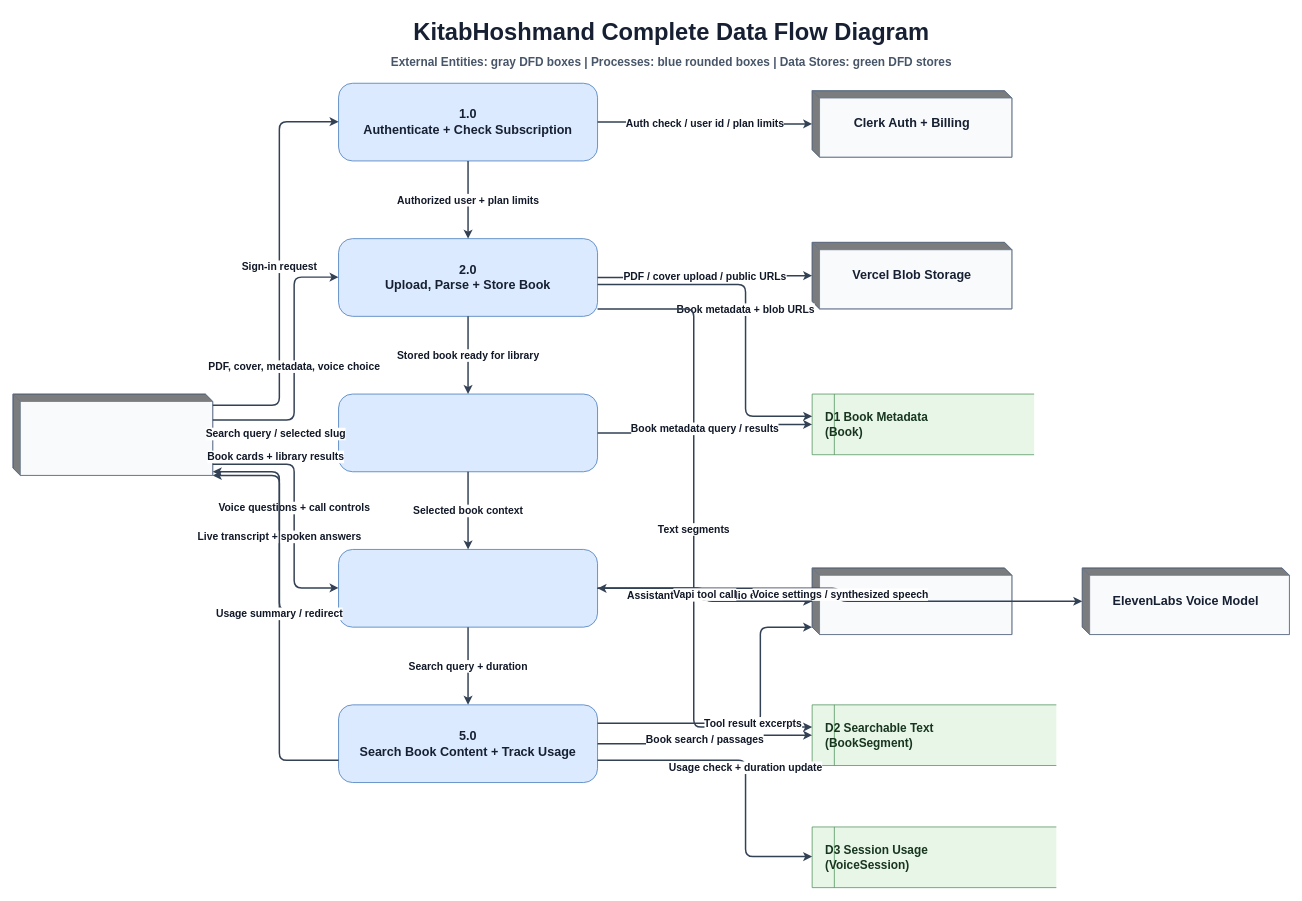
The diagram is 1302 pixels wide and 901 high, and some of its shapes have lost their labels. Each missing label, with the box of its shape:
3.0 Browse + Search Smart Library: (338, 393, 598, 472)
4.0 Run Vapi Voice Study Session: (338, 549, 598, 627)
Student / University User: (12, 393, 213, 475)
Vapi Voice Platform: (811, 567, 1012, 635)
